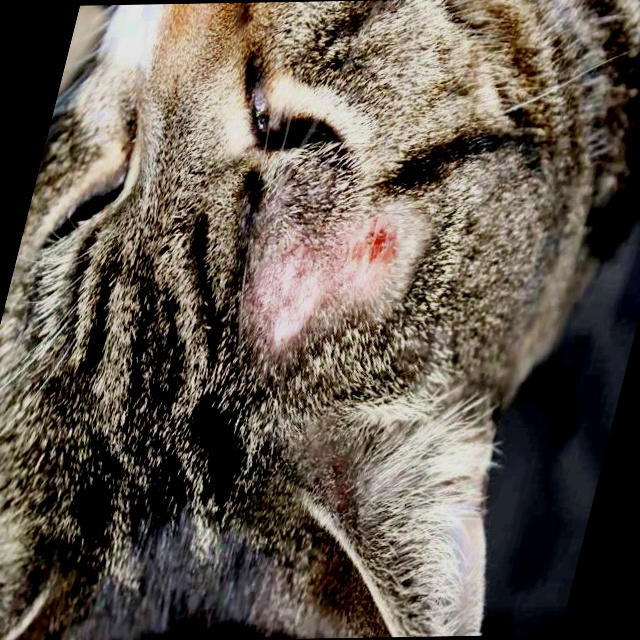ringworm: (249, 221, 428, 331)
